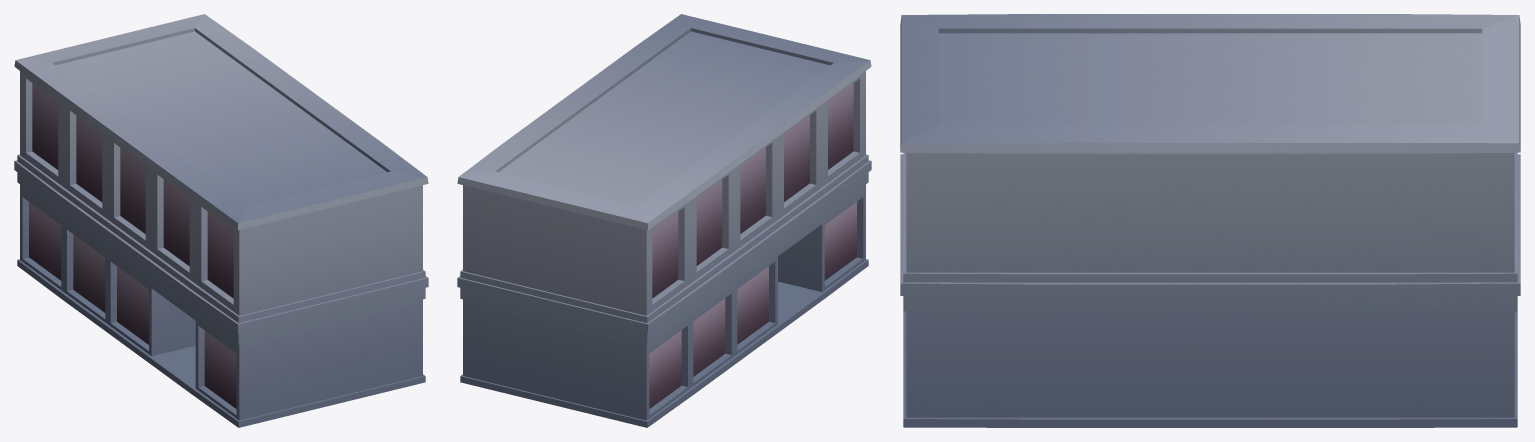
The model's file is miami_building_003.FBX.
The picture shows the model from 3 angles, left to right: view 1: azimuth 30°, elevation 25°; view 2: azimuth 150°, elevation 25°; view 3: azimuth 270°, elevation 25°; orthographic projection. The views are drawn at different scales.
Visible parts, largest first — view 1: building001; view 2: building001; view 3: building001.
Part boxes in pixels (x1,y1,x2,y2): building001: (14,14,428,427); building001: (457,14,871,427); building001: (900,14,1520,427).
Size of the model in its own units: 239 by 244 by 478.
